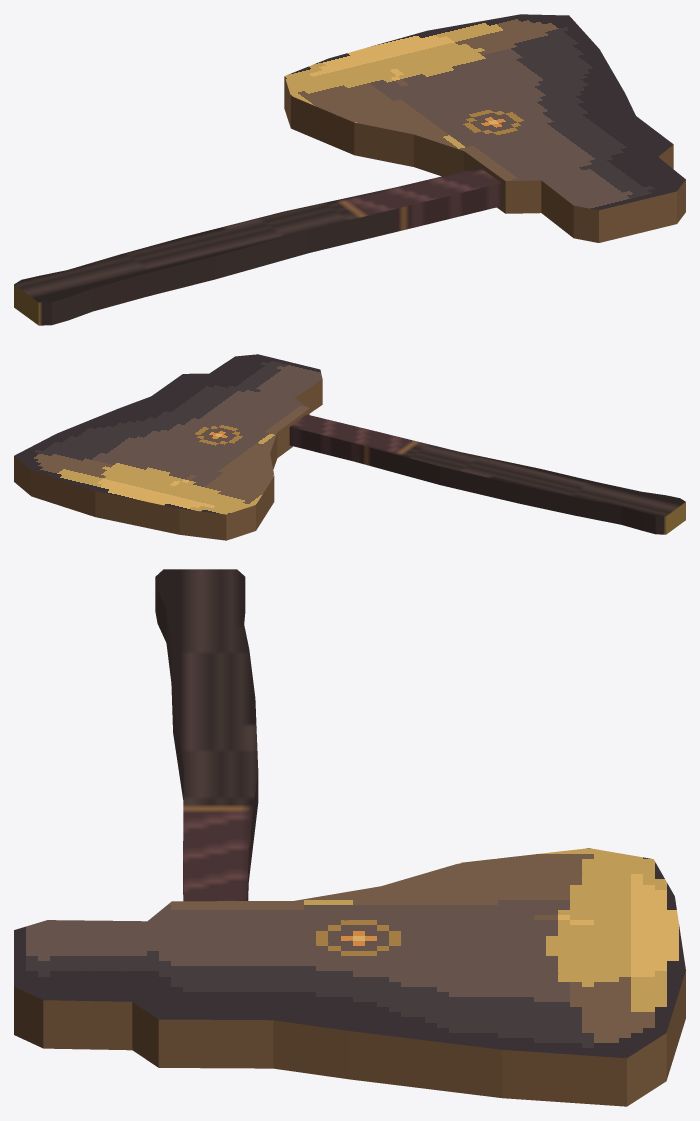
The model's file is axe_finished_bench.obj.
3 views of the same model, one above another, from view 1: azimuth 30°, elevation 25°; view 2: azimuth 150°, elevation 25°; view 3: azimuth 270°, elevation 25° (orthographic). The views are drawn at different scales.
Parts seen in each view (by area): view 1: geometry; view 2: geometry; view 3: geometry.
Boxes of the visible parts, box(x1,y1,x2,y2) form: geometry: box(14, 14, 685, 325); geometry: box(14, 354, 685, 540); geometry: box(14, 569, 685, 1106).
Size of the model in its own units: 0.75 by 0.0341 by 0.4294.
